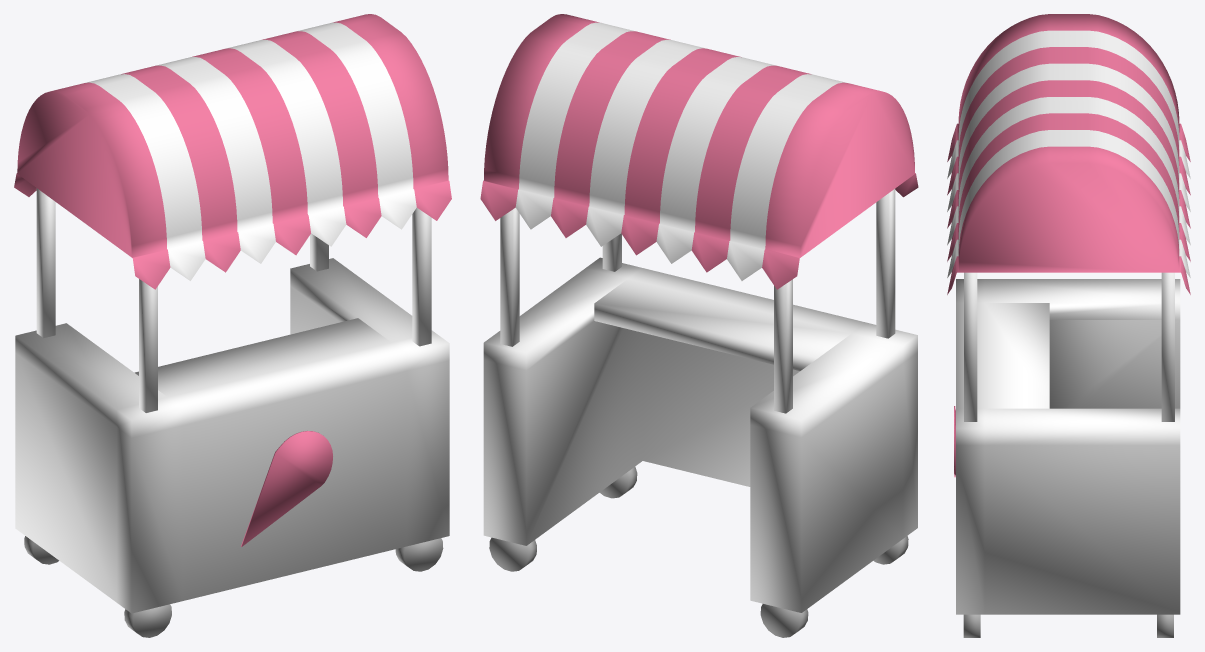
File: IceCreamCartv3.fbx
The picture shows the model from 3 angles, left to right: view 1: azimuth 30°, elevation 25°; view 2: azimuth 150°, elevation 25°; view 3: azimuth 270°, elevation 25°; orthographic projection. The views are drawn at different scales.
Visible parts, largest first — view 1: IceCreamStand; view 2: IceCreamStand; view 3: IceCreamStand.
Boxes of the visible parts, <box> form: IceCreamStand: <box>14,14,451,637</box>; IceCreamStand: <box>480,14,918,637</box>; IceCreamStand: <box>947,14,1190,637</box>.
Bounding box in the file's own units: 200 × 301 × 138.
